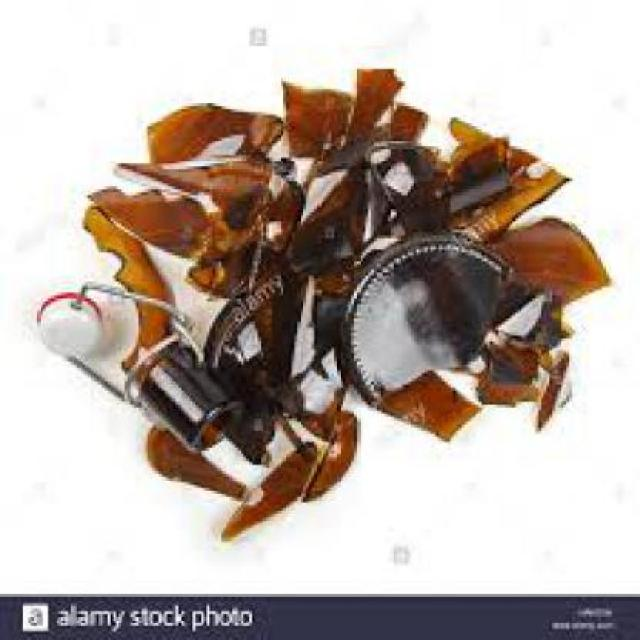kaca: (343, 226, 519, 405), (119, 156, 303, 292), (198, 284, 290, 462), (122, 103, 276, 195), (83, 204, 171, 354), (84, 185, 216, 268), (492, 212, 606, 302), (280, 160, 363, 282), (131, 344, 238, 438), (142, 423, 258, 503), (215, 441, 314, 534), (458, 150, 562, 232), (272, 72, 360, 156), (374, 368, 475, 434), (332, 69, 403, 149), (437, 112, 528, 170), (296, 404, 352, 494), (383, 158, 459, 222), (445, 136, 509, 210), (363, 132, 428, 202), (476, 331, 538, 400), (283, 362, 340, 431), (529, 344, 569, 428), (524, 288, 578, 350), (357, 99, 425, 144), (303, 282, 346, 352)
